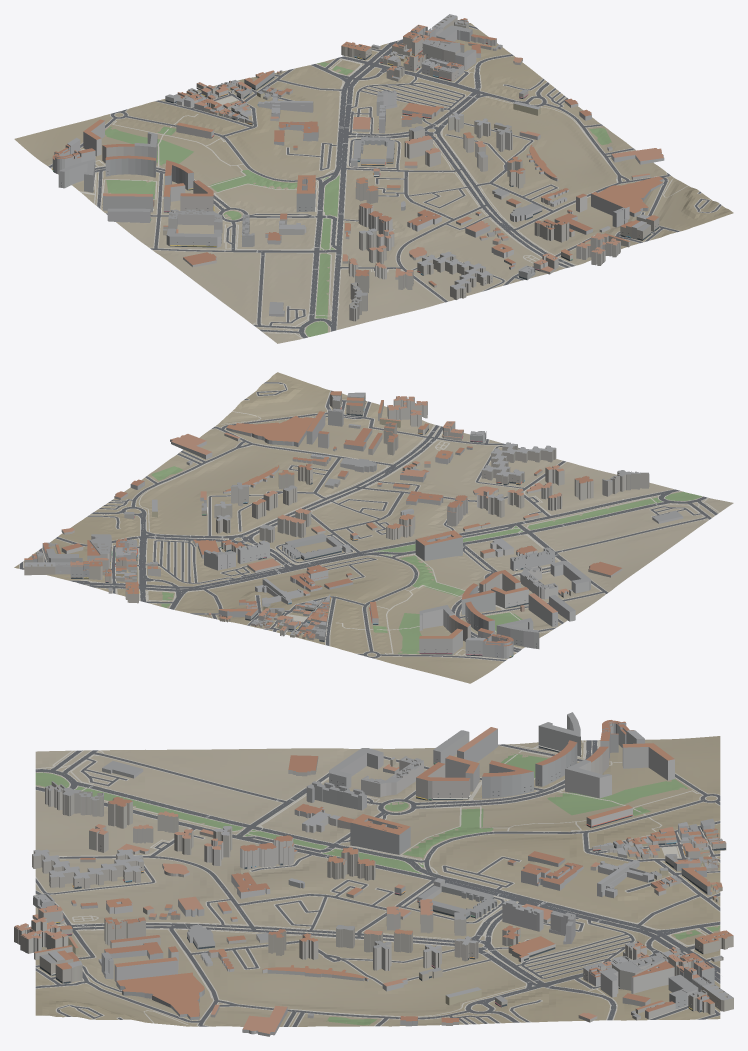
3 views of the same model, one above another, from view 1: azimuth 30°, elevation 25°; view 2: azimuth 150°, elevation 25°; view 3: azimuth 270°, elevation 25° (orthographic). The views are drawn at different scales.
Visible parts, largest first — view 1: Ground, Walls, Roofs, Road, Sidewalk, Park, Detail; view 2: Ground, Walls, Roofs, Road, Sidewalk, Park, Detail; view 3: Ground, Walls, Roofs, Road, Sidewalk, Park, Detail.
Part boxes in pixels (x1,y1,x2,y2): Ground: (14,23,733,343); Walls: (52,16,664,321); Roofs: (52,14,663,313); Road: (48,25,721,338); Sidewalk: (48,25,721,338); Park: (105,62,611,336); Detail: (52,42,658,283); Ground: (14,372,733,683); Walls: (24,392,683,658); Roofs: (24,391,682,646); Road: (20,382,717,661); Sidewalk: (19,382,719,661); Park: (151,466,701,653); Detail: (46,399,563,657); Ground: (35,736,720,1026); Walls: (14,715,733,1036); Roofs: (14,712,733,1033); Road: (35,740,720,1026); Sidewalk: (35,740,720,1026); Park: (35,753,720,1025); Detail: (32,743,725,1011).
Size of the model in its own units: 1064 by 68 by 1052.
